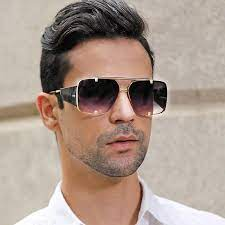g.y: (76, 77, 118, 116)
